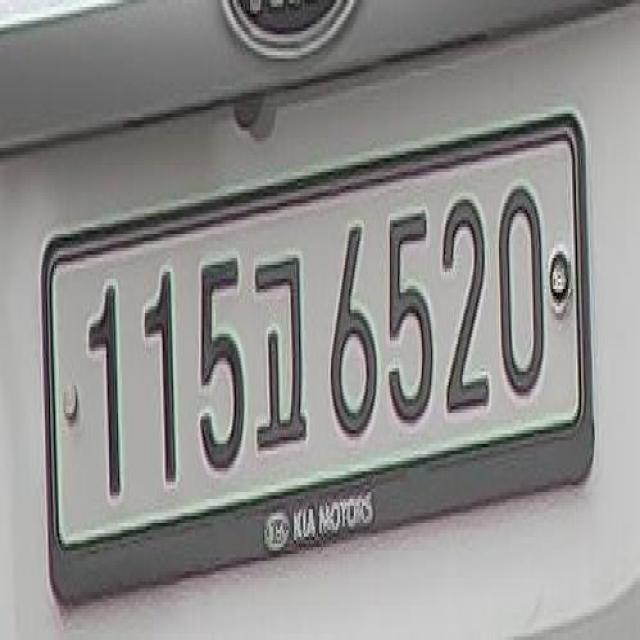illegal_plate: (37, 125, 603, 592)
